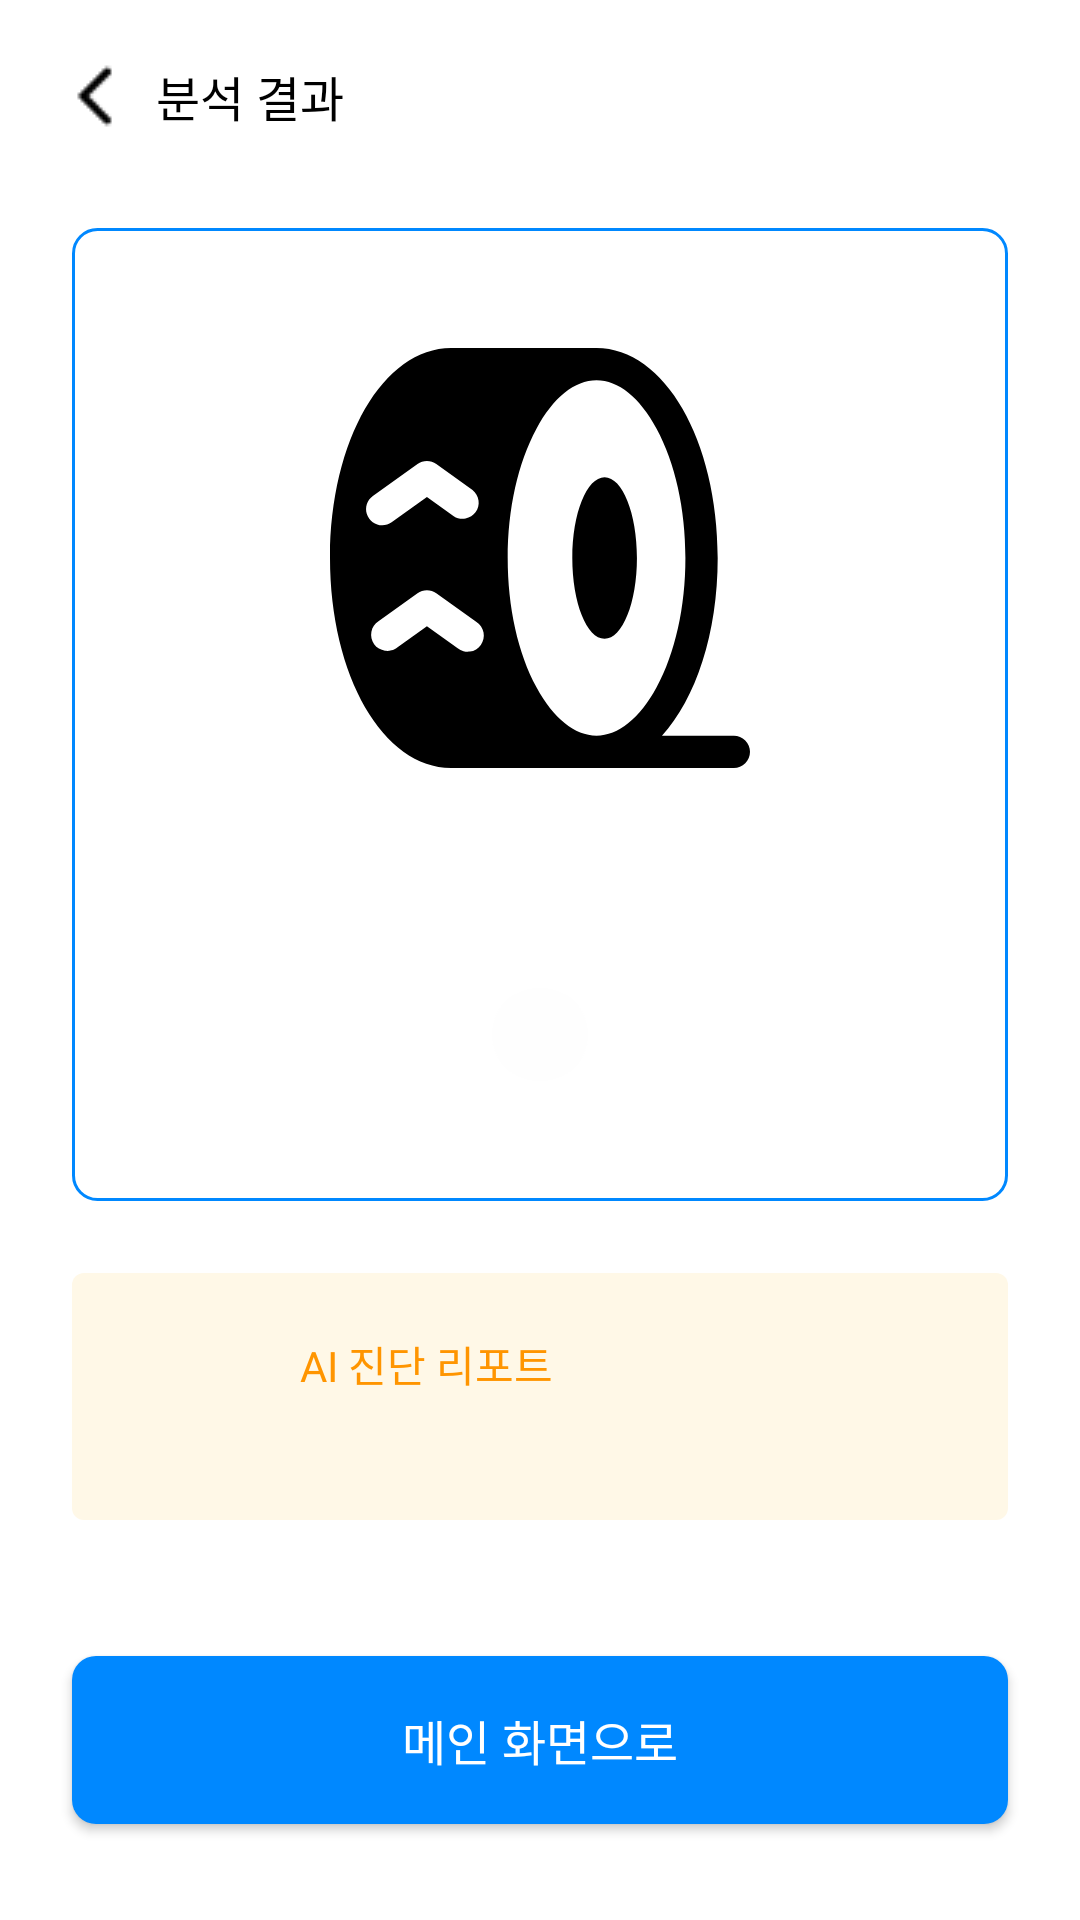

Icon bounding boxes for this 1080px×1920px phone screenshot, format (x1, y1, x2, y2):
back: (77, 65, 112, 127)
